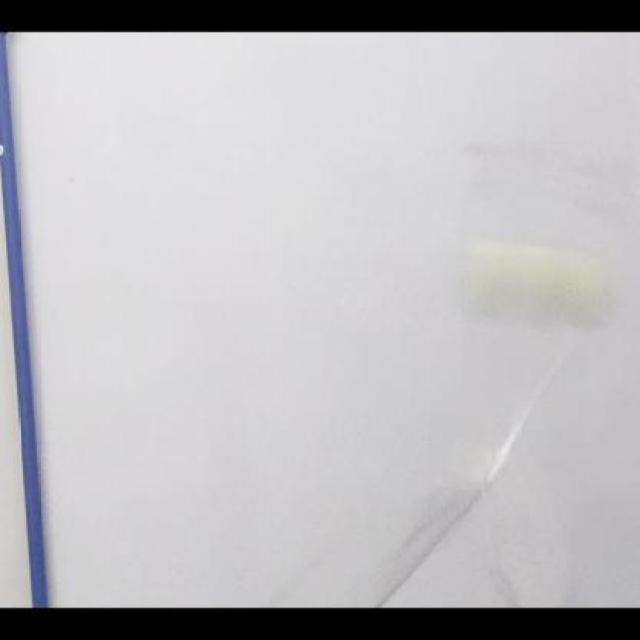baseball: (456, 240, 616, 331)
